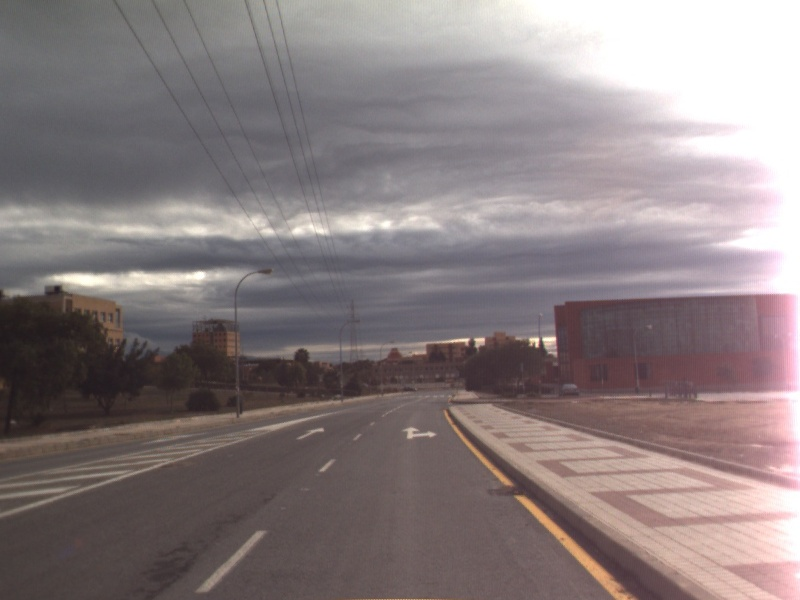STRAIGHT: (294, 425, 327, 441)
STRAIGHT_RIGHT: (399, 424, 439, 441)
